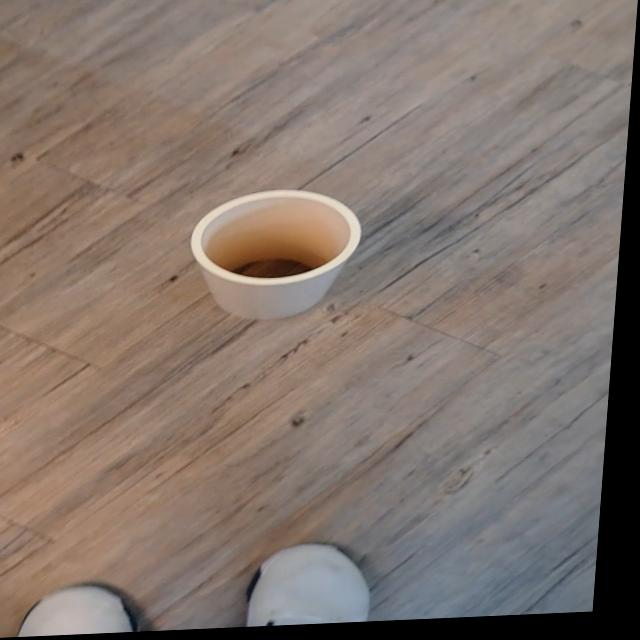CORAL: (157, 184, 395, 329)
